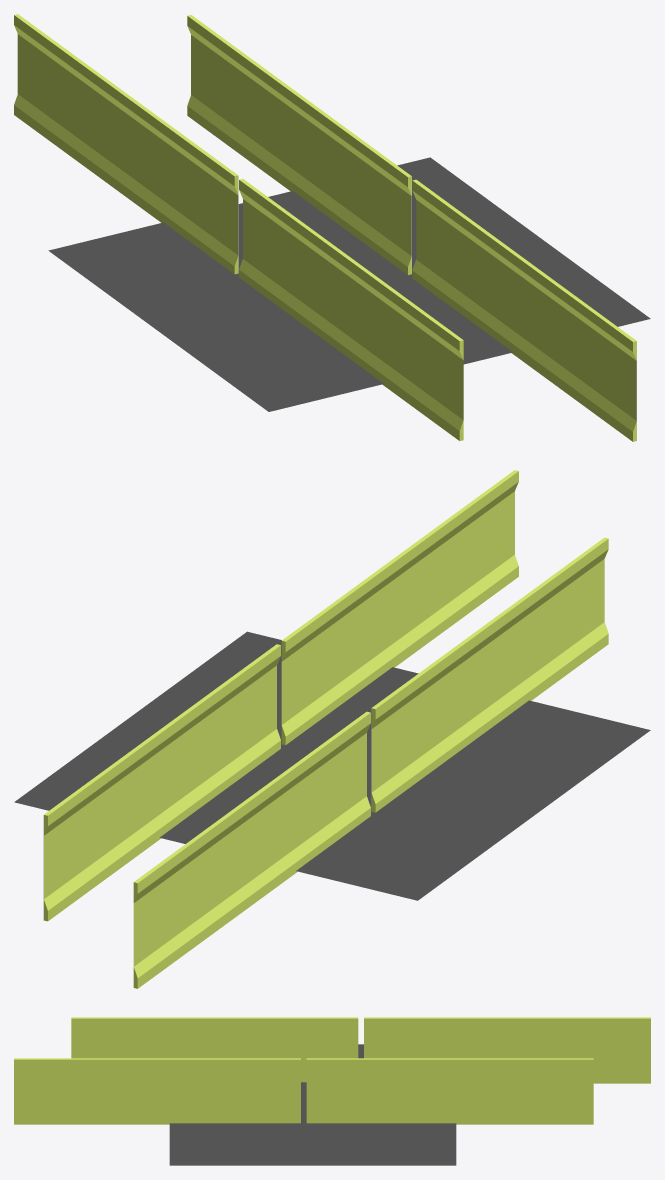
Rendered from Narrow_gap.dae.
3 views of the same model, one above another, from view 1: azimuth 30°, elevation 25°; view 2: azimuth 150°, elevation 25°; view 3: azimuth 270°, elevation 25° (orthographic). The views are drawn at different scales.
Parts seen in each view (by area): view 1: node_a33a1256_4587_4ffe_9da0_28a6975a7b13_mesh1, node_a33a1256_4587_4ffe_9da0_28a6975a7b13_mesh3, node_a33a1256_4587_4ffe_9da0_28a6975a7b13_mesh2, node_a33a1256_4587_4ffe_9da0_28a6975a7b13_mesh4, node_a33a1256_4587_4ffe_9da0_28a6975a7b13_mesh0; view 2: node_a33a1256_4587_4ffe_9da0_28a6975a7b13_mesh1, node_a33a1256_4587_4ffe_9da0_28a6975a7b13_mesh3, node_a33a1256_4587_4ffe_9da0_28a6975a7b13_mesh2, node_a33a1256_4587_4ffe_9da0_28a6975a7b13_mesh4, node_a33a1256_4587_4ffe_9da0_28a6975a7b13_mesh0; view 3: node_a33a1256_4587_4ffe_9da0_28a6975a7b13_mesh4, node_a33a1256_4587_4ffe_9da0_28a6975a7b13_mesh2, node_a33a1256_4587_4ffe_9da0_28a6975a7b13_mesh3, node_a33a1256_4587_4ffe_9da0_28a6975a7b13_mesh1, node_a33a1256_4587_4ffe_9da0_28a6975a7b13_mesh0.
Boxes of the visible parts, x1=… form: node_a33a1256_4587_4ffe_9da0_28a6975a7b13_mesh1: x1=48, y1=157, x2=650, y2=411; node_a33a1256_4587_4ffe_9da0_28a6975a7b13_mesh3: x1=14, y1=14, x2=238, y2=274; node_a33a1256_4587_4ffe_9da0_28a6975a7b13_mesh2: x1=412, y1=179, x2=636, y2=441; node_a33a1256_4587_4ffe_9da0_28a6975a7b13_mesh4: x1=187, y1=15, x2=411, y2=274; node_a33a1256_4587_4ffe_9da0_28a6975a7b13_mesh0: x1=239, y1=179, x2=463, y2=440; node_a33a1256_4587_4ffe_9da0_28a6975a7b13_mesh1: x1=14, y1=631, x2=650, y2=900; node_a33a1256_4587_4ffe_9da0_28a6975a7b13_mesh3: x1=133, y1=711, x2=370, y2=988; node_a33a1256_4587_4ffe_9da0_28a6975a7b13_mesh2: x1=281, y1=470, x2=518, y2=745; node_a33a1256_4587_4ffe_9da0_28a6975a7b13_mesh4: x1=43, y1=644, x2=280, y2=921; node_a33a1256_4587_4ffe_9da0_28a6975a7b13_mesh0: x1=371, y1=537, x2=608, y2=812; node_a33a1256_4587_4ffe_9da0_28a6975a7b13_mesh4: x1=306, y1=1058, x2=593, y2=1124; node_a33a1256_4587_4ffe_9da0_28a6975a7b13_mesh2: x1=14, y1=1058, x2=300, y2=1124; node_a33a1256_4587_4ffe_9da0_28a6975a7b13_mesh3: x1=364, y1=1017, x2=650, y2=1083; node_a33a1256_4587_4ffe_9da0_28a6975a7b13_mesh1: x1=169, y1=1044, x2=456, y2=1165; node_a33a1256_4587_4ffe_9da0_28a6975a7b13_mesh0: x1=71, y1=1017, x2=358, y2=1082.
Bounding box in the file's own units: 5000 × 1250 × 11100.
